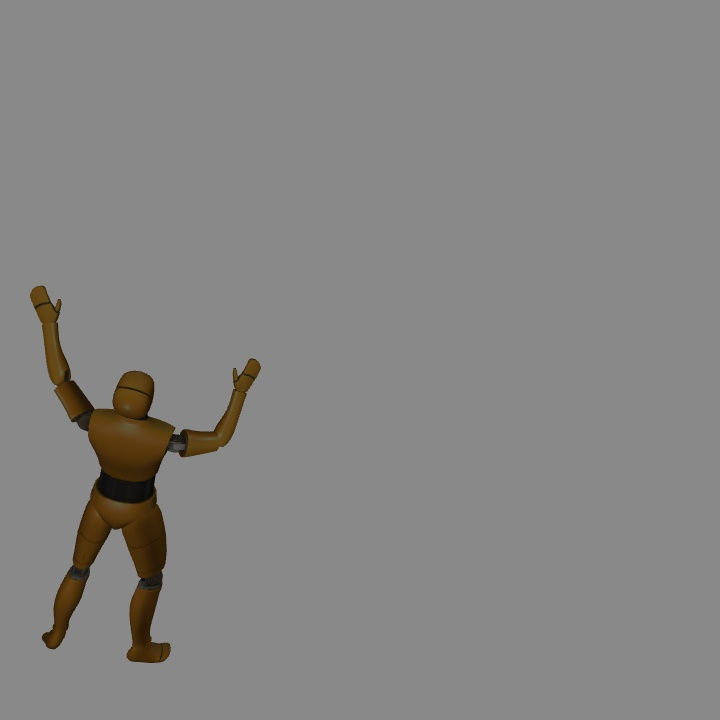victim: (74, 369, 170, 663)
